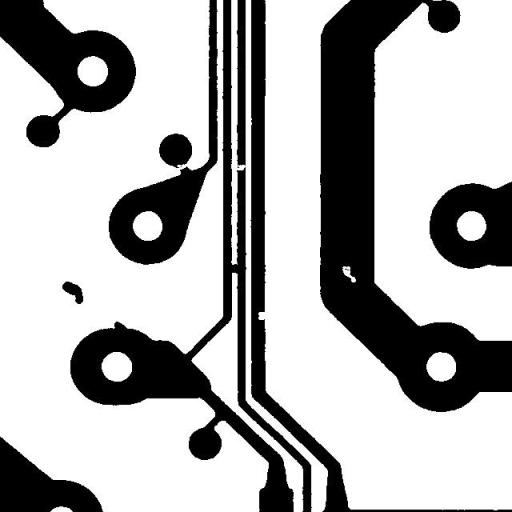copper: (54, 274, 90, 311)
mousebite: (250, 304, 274, 327)
open: (166, 156, 195, 178), (228, 156, 254, 178)
pin-hole: (334, 258, 364, 290)
short: (221, 256, 247, 281)
spur: (106, 314, 136, 342)
